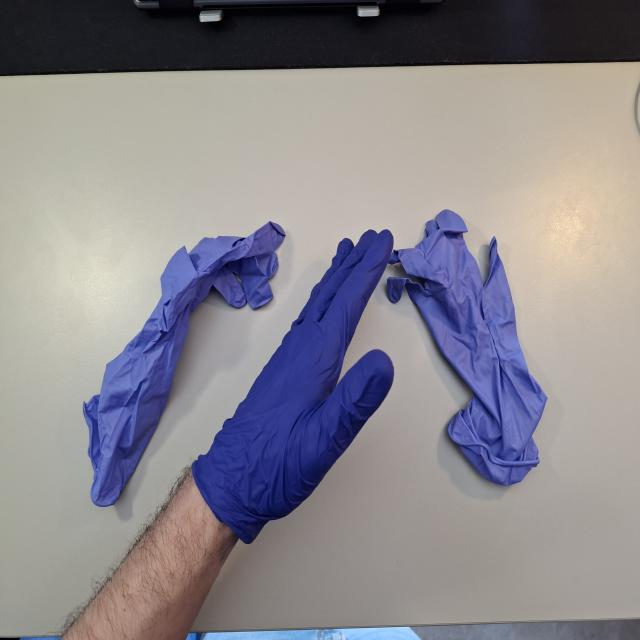glove_on: (194, 226, 396, 540)
